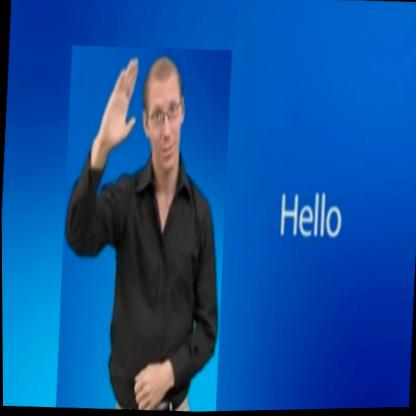Hello: (52, 42, 233, 415)
